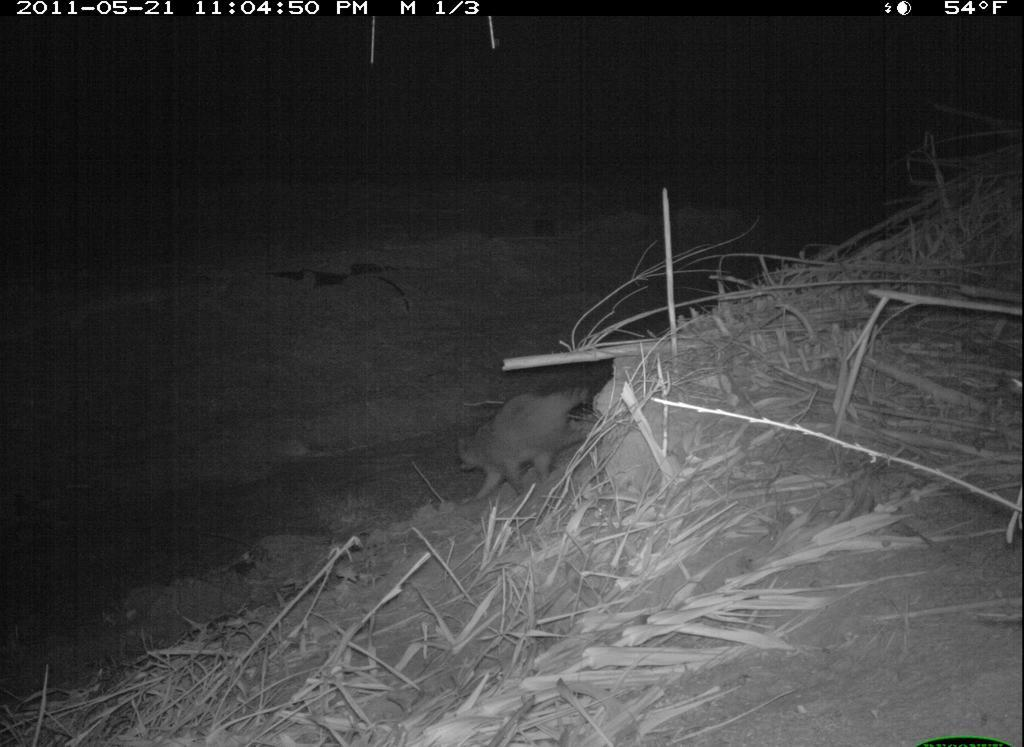raccoon: (445, 377, 602, 506)
